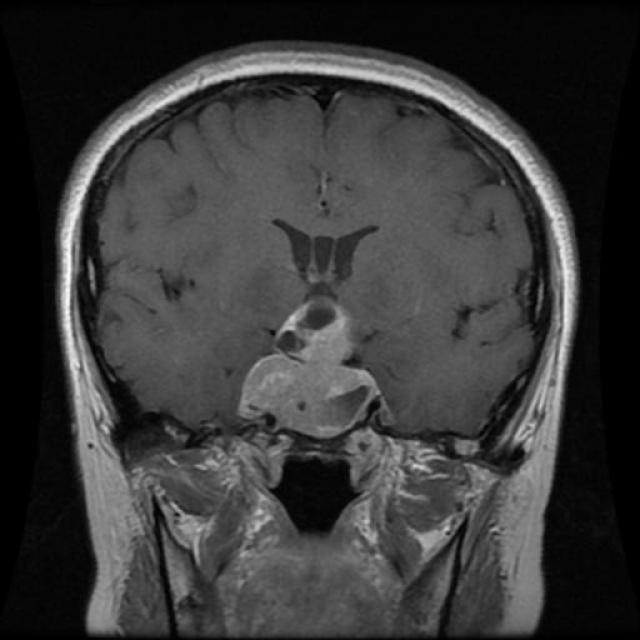pituitary: (236, 288, 382, 438)
